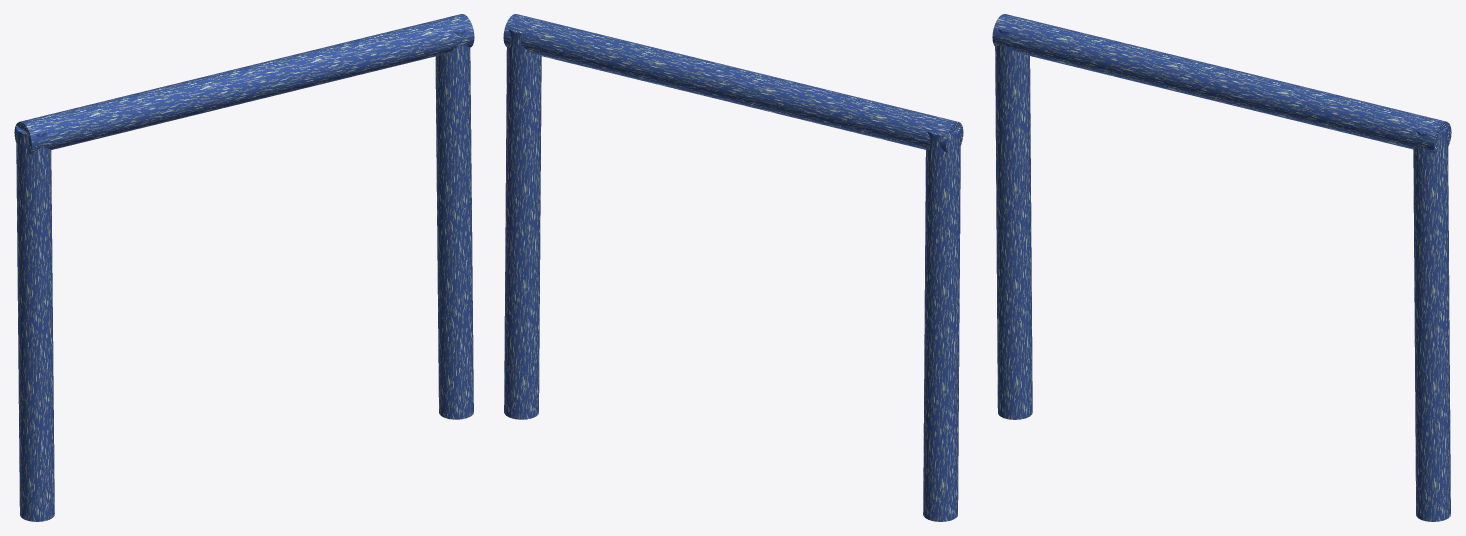
Rendered from stage_handrail.FBX.
The picture shows the model from 3 angles, left to right: view 1: azimuth 30°, elevation 25°; view 2: azimuth 150°, elevation 25°; view 3: azimuth 330°, elevation 25°; orthographic projection.
Parts seen in each view (by area): view 1: Cylinder001, Cylinder002, Cylinder003; view 2: Cylinder001, Cylinder002, Cylinder003; view 3: Cylinder001, Cylinder003, Cylinder002.
Part boxes in pixels (bbox=[...]): Cylinder001: bbox=[14, 14, 474, 154]; Cylinder002: bbox=[16, 126, 54, 521]; Cylinder003: bbox=[435, 29, 473, 419]; Cylinder001: bbox=[503, 14, 963, 153]; Cylinder002: bbox=[923, 126, 960, 521]; Cylinder003: bbox=[504, 28, 541, 419]; Cylinder001: bbox=[992, 14, 1451, 155]; Cylinder003: bbox=[1413, 126, 1450, 521]; Cylinder002: bbox=[995, 28, 1032, 419].
Bounding box in the file's own units: 197 × 164 × 13.52.
Materials: 1 (1 with a texture image).
